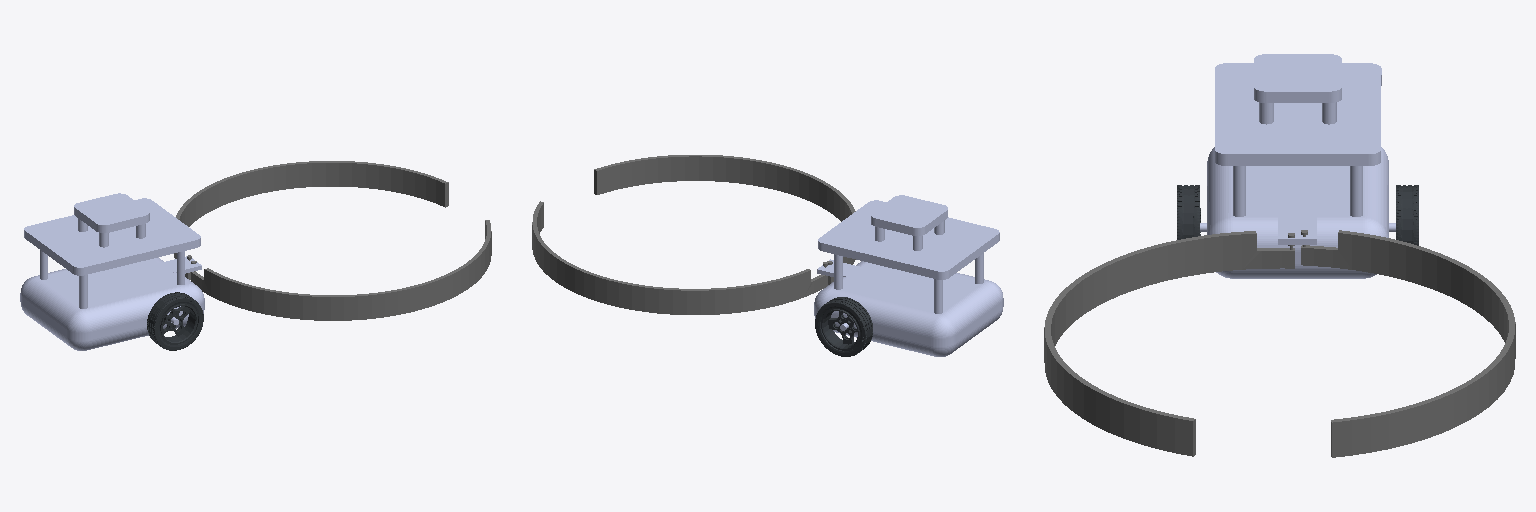
URDF robot description (ballpicker):
<?xml version="1.0" encoding="utf-8"?>
<!-- This URDF was automatically created by SolidWorks to URDF Exporter! Originally created by [author] ([email redacted]) 
     Commit Version: 1.6.0-4-g7f85cfe  Build Version: 1.6.7995.38578
     For more information, please see http://wiki.ros.org/sw_urdf_exporter -->
<robot
  name="ballpicker">
  <link name="base_footprint">
    <visual>
      <geometry>
        <cylinder length="0.01" radius="0.01"/>
      </geometry>
    </visual>
  </link>
  <link
    name="Car_link">
 <visual>
<origin xyz="0.070000000000000034417 -0.089000000000000092926 1.2845280394913071349e-16" rpy="4.9303806576313226891e-32 1.4432899320127035026e-15 1.5707963267948947816" />
<geometry>
<mesh filename="package://ballpicker/meshes2/car_link.stl"/>
</geometry>
<material name="car_link_material">
<color rgba="0.79215686274509800047 0.81960784313725487671 0.93333333333333334814 1.0"/>
</material>
</visual>
<collision>
<origin xyz="0.070000000000000034417 -0.089000000000000092926 1.2845280394913071349e-16" rpy="4.9303806576313226891e-32 1.4432899320127035026e-15 1.5707963267948947816" />
<geometry>
<mesh filename="package://ballpicker/meshes2/car_link.stl"/>
</geometry>
</collision>
<inertial>
<origin xyz="-8.0792827294974415e-08 -0.00029399224686504910053 0.041690808771539626665" rpy="0 0 0"/>
<mass value="1.4917848461152376505" />
<inertia ixx="0.0054742713586083220287" ixy="1.5570169247996331444e-10"  ixz="1.0980481213835968122e-08" iyy="0.0040696032117884329074" iyz="-3.2559022251880480405e-06" izz="0.0056507774047397192271" />
</inertial>
</link>
  <joint name="base_to_car" type="fixed">
    <origin xyz="0 0.00 0" rpy="0 0 1.57"/>
    <parent link="base_footprint"/>
    <child link="Car_link"/>
  </joint>
  <link
    name="LF_Wheel">
 <visual>
<origin xyz="0 0.030999981675389996771 -0.0056518448773737461899" rpy="2.1692574143828551494e-17 -1.570796326794896558 0" />
<geometry>
<mesh filename="package://ballpicker/meshes2/pr16_a01_tire_2.stl"/>
</geometry>
<material name="pr16_a01_tire_2_material">
<color rgba="0.26274509803921569651 0.28235294117647058432 0.30196078431372547213 1.0"/>
</material>
</visual>
<collision>
<origin xyz="0 0.030999981675389996771 -0.0056518448773737461899" rpy="2.1692574143828551494e-17 -1.570796326794896558 0" />
<geometry>
<mesh filename="package://ballpicker/meshes2/pr16_a01_tire_2.stl"/>
</geometry>
</collision>
<visual>
<origin xyz="0 0 -0.0062000000000100169428" rpy="3.141592653589793116 1.6264382251535596775e-32 2.1692574143828551494e-17" />
<geometry>
<mesh filename="package://ballpicker/meshes2/p30_isp_a001_3d.stl"/>
</geometry>
<material name="p30_isp_a001_3d_material">
<color rgba="0.26274509803921569651 0.28235294117647058432 0.30196078431372547213 1.0"/>
</material>
</visual>
<collision>
<origin xyz="0 0 -0.0062000000000100169428" rpy="3.141592653589793116 1.6264382251535596775e-32 2.1692574143828551494e-17" />
<geometry>
<mesh filename="package://ballpicker/meshes2/p30_isp_a001_3d.stl"/>
</geometry>
</collision>
<inertial>
<origin xyz="-1.5487334166844589248e-06 -8.5814345018492923711e-08 -0.0050301561806493219273" rpy="0 0 0"/>
<mass value="0.03207771713809098868" />
<inertia ixx="1.2358596404452204434e-05" ixy="4.3615492917198882394e-10"  ixz="-1.667694698618963425e-11" iyy="1.2345010752383234556e-05" iyz="-5.7827554652492551165e-09" izz="2.2976553031712314832e-05" />
</inertial>
</link>
  <joint
    name="LF_Wheel_Cont"
    type="continuous">
<origin xyz="0.078500000000000166867 -0.034000000000000030198 0.02500000000000004996" rpy="-1.570796326794896558 1.4312143091539777373 1.5707963267948978903" />
<parent link="Car_link" />
<child link="LF_Wheel" />
<axis xyz="0 0 -1"/>
<limit effort="1" velocity="20" />
<joint_properties friction="0.0"/>
</joint>

<link name = "RF_Wheel">
<visual>
<origin xyz="-8.6736173798840354721e-19 0 -0.006200000000010003065" rpy="3.141592653589793116 -2.2125674404552151571e-32 6.9186391990699090735e-17" />
<geometry>
<mesh filename="package://ballpicker/meshes2/p30_isp_a001_3d.stl"/>
</geometry>
<material name="p30_isp_a001_3d_material">
<color rgba="0.26274509803921569651 0.28235294117647058432 0.30196078431372547213 1.0"/>
</material>
</visual>
<collision>
<origin xyz="-8.6736173798840354721e-19 0 -0.006200000000010003065" rpy="3.141592653589793116 -2.2125674404552151571e-32 6.9186391990699090735e-17" />
<geometry>
<mesh filename="package://ballpicker/meshes2/p30_isp_a001_3d.stl"/>
</geometry>
</collision>
<visual>
<origin xyz="8.6736173798840354721e-19 0.03099998167539000718 -0.0056518448773737461899" rpy="6.9186391990699090735e-17 -1.570796326794896558 0" />
<geometry>
<mesh filename="package://ballpicker/meshes2/pr16_a01_tire_2.stl"/>
</geometry>
<material name="pr16_a01_tire_2_material">
<color rgba="0.26274509803921569651 0.28235294117647058432 0.30196078431372547213 1.0"/>
</material>
</visual>
<collision>
<origin xyz="8.6736173798840354721e-19 0.03099998167539000718 -0.0056518448773737461899" rpy="6.9186391990699090735e-17 -1.570796326794896558 0" />
<geometry>
<mesh filename="package://ballpicker/meshes2/pr16_a01_tire_2.stl"/>
</geometry>
</collision>
<inertial>
<origin xyz="-1.5487334166835617052e-06 -8.5814345013680731015e-08 -0.0050301561806493149884" rpy="0 0 0"/>
<mass value="0.03207771713809098868" />
<inertia ixx="1.2358596404452204434e-05" ixy="4.361549291717472355e-10"  ixz="-1.6676946986154420913e-11" iyy="1.2345010752383234556e-05" iyz="-5.7827554652491599907e-09" izz="2.2976553031712314832e-05" />
</inertial>
</link>
<joint
    name="RF_Wheel_Cont"
    type="continuous">
<origin xyz="-0.078500000000000291767 -0.034000000000000044076 0.02500000000000004996" rpy="-1.570796326794896558 1.0543435529566484998 -1.57079632679489678" />
<parent link="Car_link" />
<child link="RF_Wheel" />
<axis xyz="0 0 1"/>
<limit effort="1" velocity="20" />
<joint_properties friction="0.0"/>
</joint>

  <link
    name="Claw_Right">
<visual>
<origin xyz="0.0074999999999999988551 -0.17749999999999999112 0.023500000000000000056" rpy="3.141592653589793116 -5.4838385157121393167e-32 1.0514097037387974864e-18" />
<geometry>
<mesh filename="package://ballpicker/meshes2/right_claw.stl"/>
</geometry>
<material name="right_claw_material">
<color rgba="0.50196078431372548323 0.50196078431372548323 0.50196078431372548323 1.0"/>
</material>
</visual>
<collision>
<origin xyz="0.0074999999999999988551 -0.17749999999999999112 0.023500000000000000056" rpy="3.141592653589793116 -5.4838385157121393167e-32 1.0514097037387974864e-18" />
<geometry>
<mesh filename="package://ballpicker/meshes2/right_claw.stl"/>
</geometry>
</collision>
<inertial>
<origin xyz="0.13161031125667496666 -0.15634229581481434712 0.0087073712694376460136" rpy="0 0 0"/>
<mass value="0.077433187135449055294" />
<inertia ixx="0.0010380342021609899501" ixy="0.00015302945284854561035"  ixz="1.8999232012475426259e-06" iyy="0.00018632777059713365002" iyz="-2.5063978661754547605e-06" izz="0.0012127555084622649532" />
</inertial>
</link>
  <joint
    name="Claw_Right_J"
    type="revolute">
<origin xyz="-0.0050000000000001952605 -0.10400000000000012013 0.047500000000000167089" rpy="-3.1415926535897926719 -5.9913170964877163588e-16 3.128025583921072883" />
<parent link="Car_link" />
<child link="Claw_Right" />
<axis xyz="0 0 1"/>
<limit effort="1" velocity="20" />
<joint_properties friction="0.0"/>
</joint>
  <link
    name="Claw_Left">
<visual>
<origin xyz="0.032499999999999994171 -0.17749999999999999112 0.023500000000000000056" rpy="-3.141592653589793116 1.0720342654554461735e-32 9.3875871167830618372e-18" />
<geometry>
<mesh filename="package://ballpicker/meshes2/left_claw.stl"/>
</geometry>
<material name="left_claw_material">
<color rgba="0.50196078431372548323 0.50196078431372548323 0.50196078431372548323 1.0"/>
</material>
</visual>
<collision>
<origin xyz="0.032499999999999994171 -0.17749999999999999112 0.023500000000000000056" rpy="-3.141592653589793116 1.0720342654554461735e-32 9.3875871167830618372e-18" />
<geometry>
<mesh filename="package://ballpicker/meshes2/left_claw.stl"/>
</geometry>
</collision>
<inertial>
<origin xyz="-0.13161031125667541075 -0.15634229581481351445 0.0087073712694376321358" rpy="0 0 0"/>
<mass value="0.077433187135448430793" />
<inertia ixx="0.0010380342021609784576" ixy="-0.00015302945284854956769"  ixz="-1.8999232012475358497e-06" iyy="0.00018632777059713099372" iyz="-2.5063978661752133561e-06" izz="0.0012127555084622506417" />
</inertial>
</link>
  <joint
    name="Claw_Left_J"
    type="revolute">
<origin xyz="0.0049999999999998240297 -0.10400000000000014788 0.050000000000000169309" rpy="3.141592653589793116 -3.9580907866572562926e-16 3.0015673980571331292" />
<parent link="Car_link" />
<child link="Claw_Left" />
<axis xyz="0 0 1"/>
<limit effort="1" velocity="20" />
<joint_properties friction="0.0"/>
</joint>

  <joint name="hokuyo_joint" type="fixed">
    <axis xyz="0 0 1" />
    <origin xyz="0 0.0 0.15" rpy="0 0 0"/>
    <parent link="Car_link"/>
    <child link="hokuyo_link"/>
  </joint>

  <!-- Hokuyo Laser -->
  <link name="hokuyo_link">
    <collision>
      <origin xyz="0 0 0" rpy="0 0 0"/>
      <geometry>
    <box size="0.1 0.1 0.1"/>
      </geometry>
    </collision>

    <visual>
      <origin xyz="0 0 0" rpy="0 0 0"/>
      <geometry>
        <mesh filename="package://ballpicker/meshes/hokuyo.dae"/>
      </geometry>
    </visual>

    <inertial>
      <mass value="1e-5" />
      <origin xyz="0 0 0" rpy="0 0 0"/>
      <inertia ixx="1e-6" ixy="0" ixz="0" iyy="1e-6" iyz="0" izz="1e-6" />
    </inertial>
  </link>
  <gazebo reference="hokuyo_link">
    <sensor type="ray" name="head_hokuyo_sensor">
      <pose>0 0 0 0 0 0</pose>
      <visualize>true</visualize>
      <update_rate>40</update_rate>
      <ray>
        <scan>
          <horizontal>
            <samples>720</samples>
            <resolution>1</resolution>
            <min_angle>-3.14159</min_angle>
            <max_angle>3.14159</max_angle>
          </horizontal>
        </scan>
        <range>
          <min>0.2</min>
          <max>40</max>
          <resolution>0.025</resolution>
        </range>
        <noise>
          <type>gaussian</type>
          <!-- Noise parameters based on published spec for Hokuyo laser
               achieving "+-30mm" accuracy at range < 10m.  A mean of 0.0m and
               stddev of 0.01m will put 99.7% of samples within 0.03m of the true
               reading. -->
          <mean>0.0</mean>
          <stddev>0.00</stddev>
        </noise>
      </ray>
      <plugin name="gazebo_ros_head_hokuyo_controller" filename="libgazebo_ros_laser.so">
        <topicName>laser_scan</topicName>
        <frameName>hokuyo_link</frameName>
      </plugin>
    </sensor>
  </gazebo>
  <gazebo>
    <plugin name="skid_steer_drive_controller" filename="libgazebo_ros_skid_steer_drive.so">
      <updateRate>100.0</updateRate>
      <robotNamespace>/</robotNamespace>
      <leftFrontJoint>LF_Wheel_Cont</leftFrontJoint>
      <rightFrontJoint>RF_Wheel_Cont</rightFrontJoint>
      <leftRearJoint>LF_Wheel_Cont</leftRearJoint>
      <rightRearJoint>RF_Wheel_Cont</rightRearJoint>
      <wheelSeparation>0.210</wheelSeparation>
      <wheelDiameter>0.065</wheelDiameter>
      <robotBaseFrame>base_link</robotBaseFrame>
      <torque>10</torque>
      <topicName>cmd_vel</topicName>
      <broadcastTF>true</broadcastTF>
    </plugin>
  </gazebo> 
 
  <transmission name="link_1_trans">
    <type>transmission_interface/SimpleTransmission</type>
    <joint name="Claw_Left_J">
    <hardwareInterface>EffortJointInterface</hardwareInterface>
    </joint>
    <actuator name="link_1_motor">
    <hardwareInterface>EffortJointInterface</hardwareInterface> 
      <mechanicalReduction>1</mechanicalReduction>
    </actuator>
  </transmission>
  <transmission name="link_2_trans">
    <type>transmission_interface/SimpleTransmission</type>
    <joint name="Claw_Right_J">
    <hardwareInterface>EffortJointInterface</hardwareInterface>
    </joint>
    <actuator name="link_2_motor">
    <hardwareInterface>EffortJointInterface</hardwareInterface> 
      <mechanicalReduction>1</mechanicalReduction>
    </actuator>
  </transmission>
    <transmission name="link_3_trans">
    <type>transmission_interface/SimpleTransmission</type>
    <joint name="LF_Wheel_Cont">
    <hardwareInterface>hardware_interface/VelocityJointInterface</hardwareInterface>
    </joint>
    <actuator name="link_3_motor">
    <hardwareInterface>hardware_interface/VelocityJointInterface</hardwareInterface> 
      <mechanicalReduction>1</mechanicalReduction>
    </actuator>
  </transmission>

    <transmission name="link_5_trans">
    <type>transmission_interface/SimpleTransmission</type>
    <joint name="RF_Wheel_Cont">
    <hardwareInterface>hardware_interface/VelocityJointInterface</hardwareInterface>
    </joint>
    <actuator name="link_5_motor">
    <hardwareInterface>hardware_interface/VelocityJointInterface</hardwareInterface> 
      <mechanicalReduction>1</mechanicalReduction>
    </actuator>
 </transmission>  
 <!--
 <link name="frictionless_sphere">
		<inertial>
		<origin xyz="0 0 0" rpy="0 0 0"/>
		<mass value="1.0"/>
		<inertia ixx="0.1" ixy="0.0" ixz="0.0" iyy="0.1" iyz="0.0" izz="0.1"/>
		</inertial>
		<visual>
		<origin xyz="0 0 0" rpy="0 0 0"/>
		<geometry>
			 <sphere radius="0.008"/>
		</geometry>
		<material name="white"/>
		</visual>
		<collision>
		<origin xyz="0 0 0" rpy="0 0 0"/>
		<geometry>
		 <sphere radius="0.008"/>
		</geometry>
		
		<gazebo reference="frictionless_sphere">
			<material>Gazebo/White</material>
			<mu1>0.0</mu1>
			<mu2>0.0</mu2>
		</gazebo>
		</collision>
  	</link>
	  <joint name="sphere_joint" type="fixed">
    <origin xyz="0 0.06 0" rpy="0 0 0"/>
    <parent link="Car_link"/>
    <child link="frictionless_sphere"/>
  </joint> 
  -->
  <gazebo>
    <plugin name="control"
  filename="libgazebo_ros_control.so">
        <robotNamespace>/</robotNamespace>
    </plugin>
  </gazebo>
  
</robot>

--- Facts derived from the render (not from the file) ---
The picture shows the robot from 3 angles, left to right: view 1: azimuth 30°, elevation 25°; view 2: azimuth 150°, elevation 25°; view 3: azimuth 270°, elevation 25°; orthographic projection.
Model ballpicker with 7 links and 6 joints (2 revolute, 2 continuous, 2 fixed), rooted at base_footprint, posed every joint at zero.
Links seen in each view (by area): view 1: Car_link, Claw_Right, Claw_Left, RF_Wheel; view 2: Car_link, Claw_Left, Claw_Right, LF_Wheel; view 3: Car_link, Claw_Right, Claw_Left, LF_Wheel, RF_Wheel.
Boxes of the visible links, left/top/right/bottom form: Car_link: left=20, top=193, right=204, bottom=350; Claw_Right: left=191, top=220, right=491, bottom=320; Claw_Left: left=174, top=161, right=448, bottom=279; RF_Wheel: left=147, top=292, right=203, bottom=350; Car_link: left=814, top=195, right=1003, bottom=356; Claw_Left: left=532, top=201, right=827, bottom=314; Claw_Right: left=594, top=155, right=855, bottom=284; LF_Wheel: left=815, top=297, right=872, bottom=356; Car_link: left=1200, top=54, right=1395, bottom=278; Claw_Right: left=1044, top=231, right=1294, bottom=456; Claw_Left: left=1301, top=230, right=1515, bottom=457; LF_Wheel: left=1396, top=185, right=1418, bottom=245; RF_Wheel: left=1177, top=185, right=1200, bottom=239.
Size in the robot's own frame: 0.5456 by 0.3624 by 0.148 metres.
7 mesh visuals loaded from 6 distinct referenced files (5 binary STL); not drawn: 1 (reference not matched to a file when rendering).
